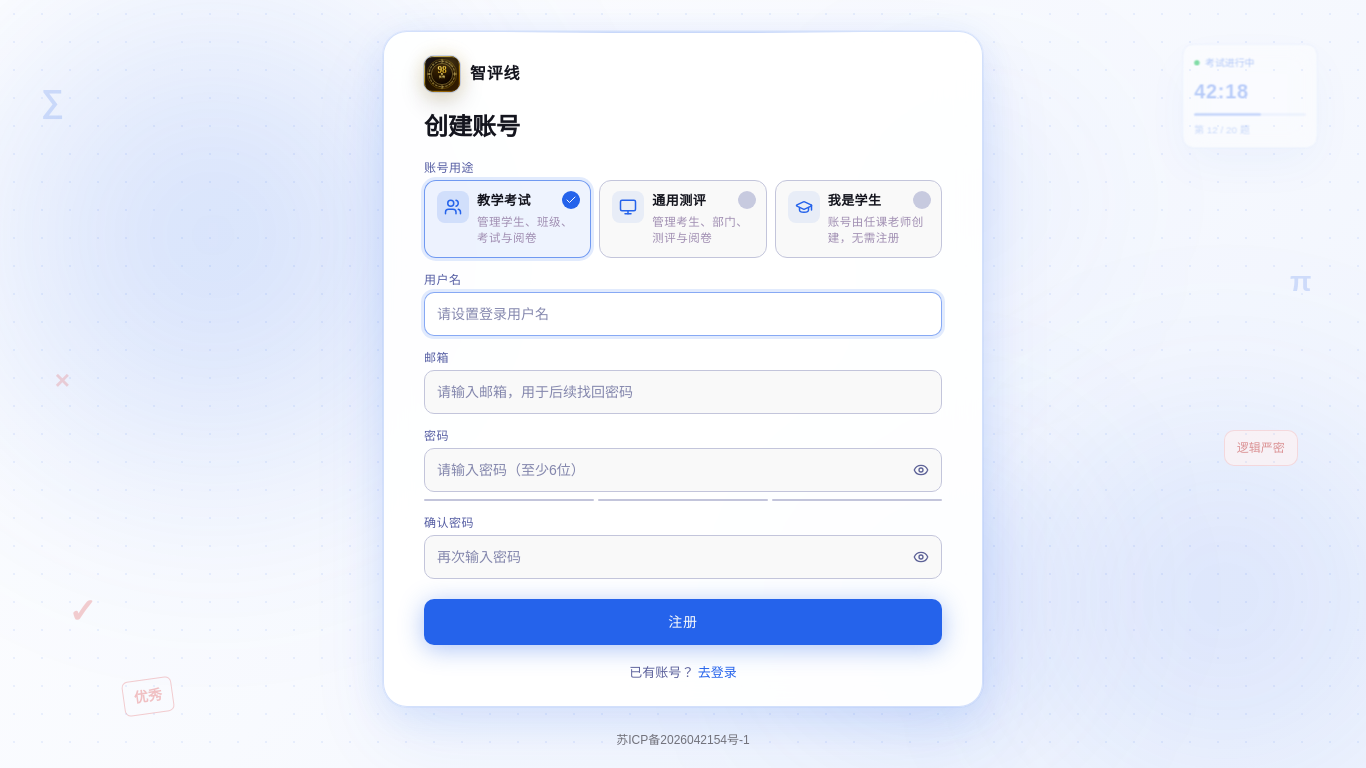
Test case: RegisterPage › does not advertise the sign-up page to students
What coordinates should you click on to do the following:
click the radio button labelled "我是学生 账号由任课老师创建，无需注册"
I would click on:
 (858, 219)
Its box is left=775, top=180, right=942, bottom=258.
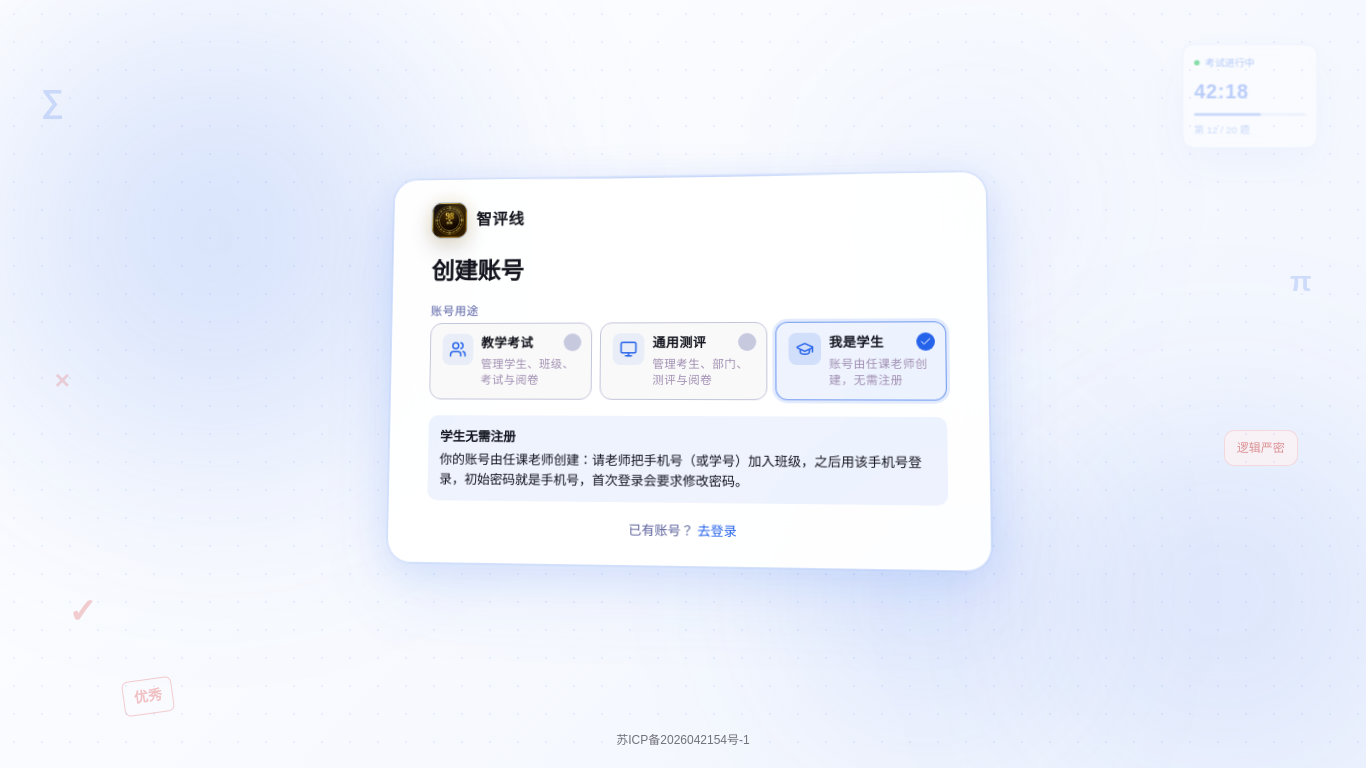
Expected: the text "学生无需注册" is shown, left=440, top=429, right=516, bottom=444
